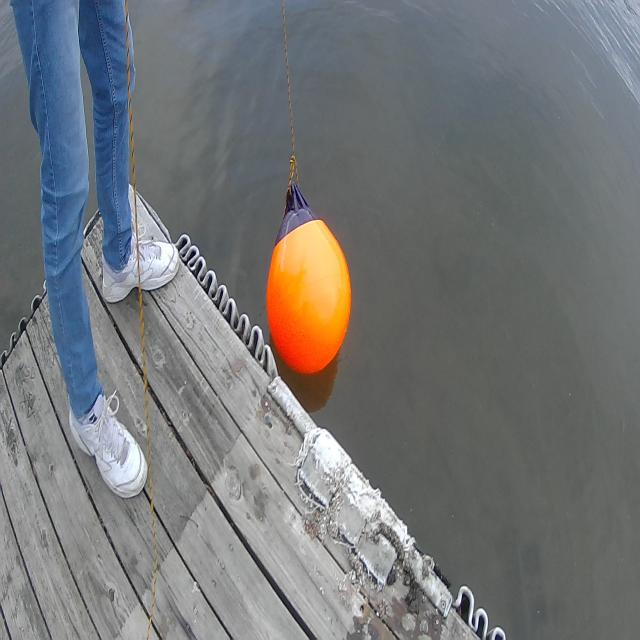Buoy: (256, 183, 360, 396)
